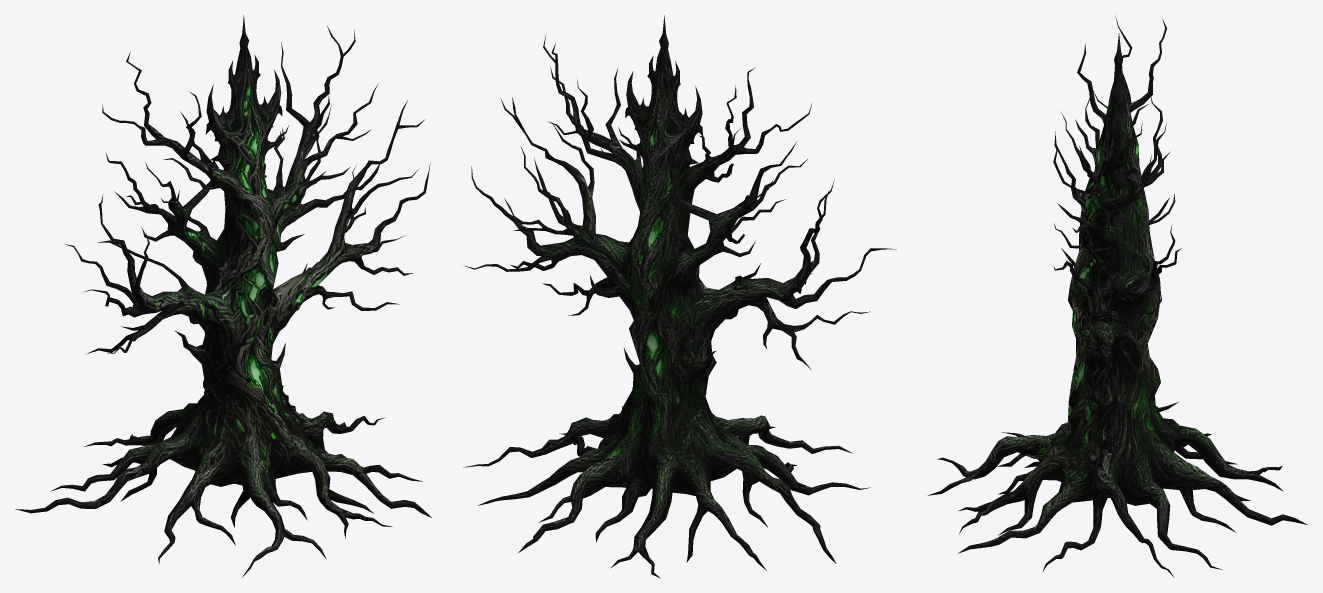
The model's file is selected.glb.
3 views of the same model, side by side, from view 1: azimuth 30°, elevation 25°; view 2: azimuth 150°, elevation 25°; view 3: azimuth 270°, elevation 25° (orthographic). The views are drawn at different scales.
Visible parts, largest first — view 1: tripo_node_d3b8b1fa-073b-4771-b514-bccc153f3184; view 2: tripo_node_d3b8b1fa-073b-4771-b514-bccc153f3184; view 3: tripo_node_d3b8b1fa-073b-4771-b514-bccc153f3184.
Part boxes in pixels (box(x1,y1,x2,y2)): tripo_node_d3b8b1fa-073b-4771-b514-bccc153f3184: box(15, 15, 431, 577); tripo_node_d3b8b1fa-073b-4771-b514-bccc153f3184: box(463, 15, 896, 578); tripo_node_d3b8b1fa-073b-4771-b514-bccc153f3184: box(928, 16, 1307, 577).
Bounding box in the file's own units: 0.8496 × 0.998 × 0.7285.
Materials: 1 (1 with a texture image).
